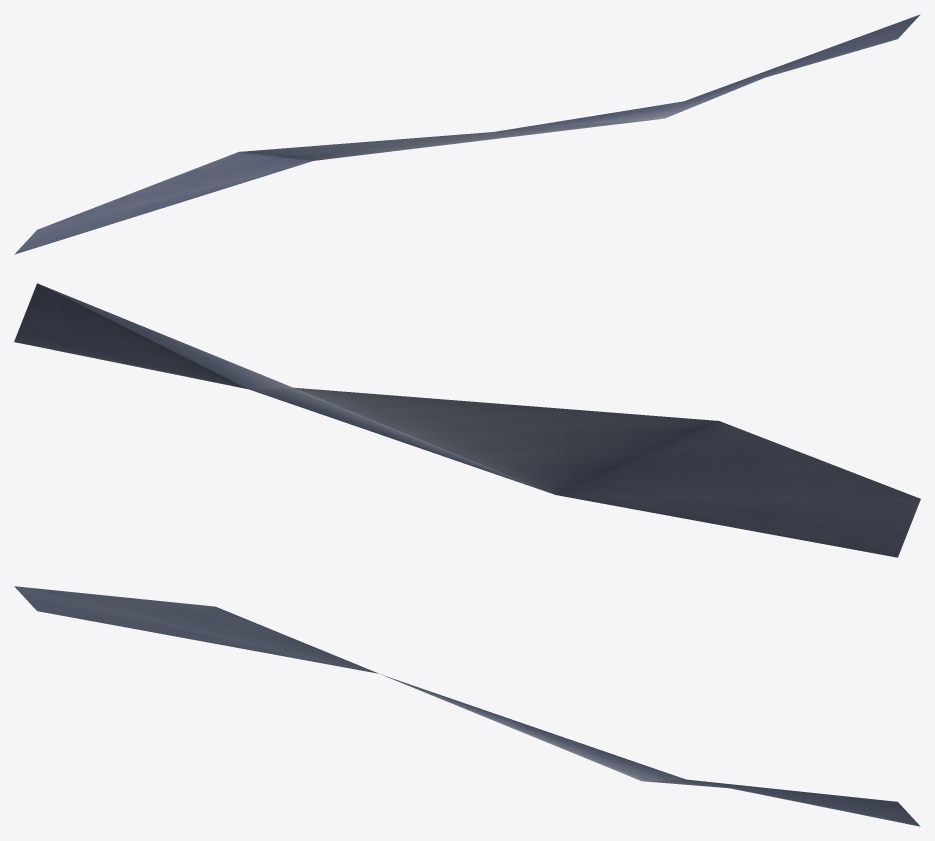
The model's file is SM_Floor_Ledge_A_A.fbx.
3 views of the same model, one above another, from view 1: azimuth 30°, elevation 25°; view 2: azimuth 150°, elevation 25°; view 3: azimuth 330°, elevation 25° (orthographic).
Parts seen in each view (by area): view 1: pCube276; view 2: pCube276; view 3: pCube276.
Part boxes in pixels (x1,y1,x2,y2): pCube276: (14,14,920,254); pCube276: (14,283,920,557); pCube276: (14,586,920,826).
Size of the model in its own units: 1 by 0.0764 by 0.087.
